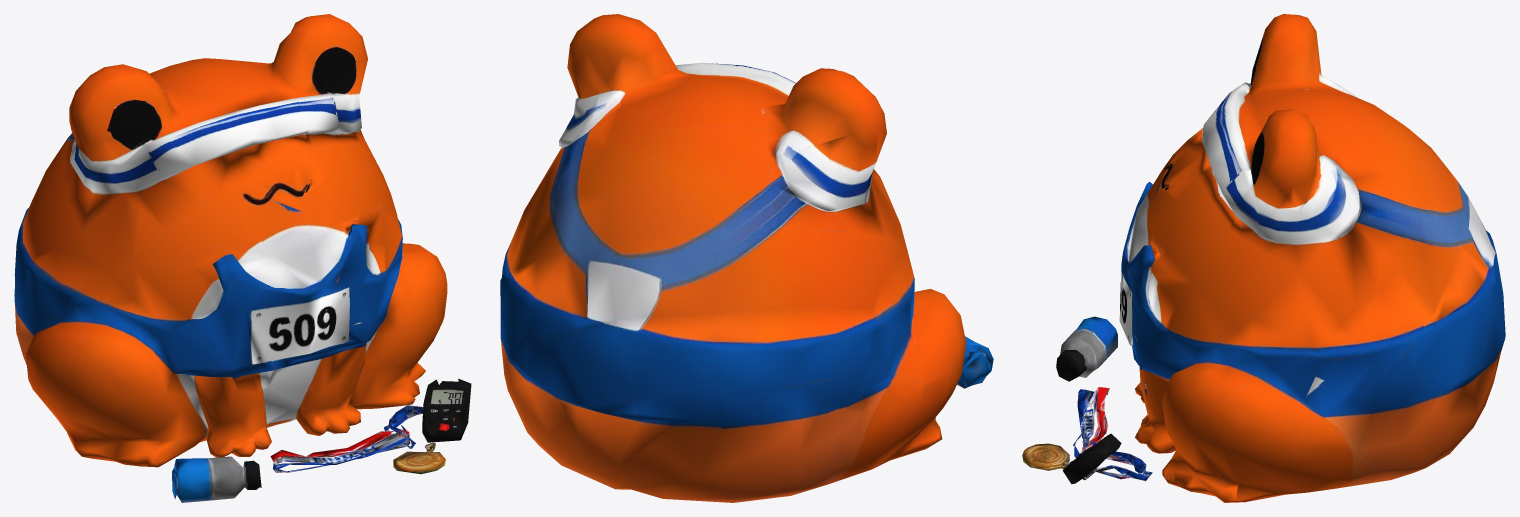
Rendered from marathonienne.glb.
3 views of the same model, side by side, from view 1: azimuth 30°, elevation 25°; view 2: azimuth 150°, elevation 25°; view 3: azimuth 270°, elevation 25° (orthographic). The views are drawn at different scales.
Parts seen in each view (by area): view 1: mesh_node; view 2: mesh_node; view 3: mesh_node.
Part boxes in pixels (x1,y1,x2,y2): mesh_node: [14, 14, 471, 502]; mesh_node: [500, 14, 993, 502]; mesh_node: [1022, 14, 1505, 502].
Size of the model in its own units: 1.8 by 1.55 by 1.9.
1 material, 1 textured.
